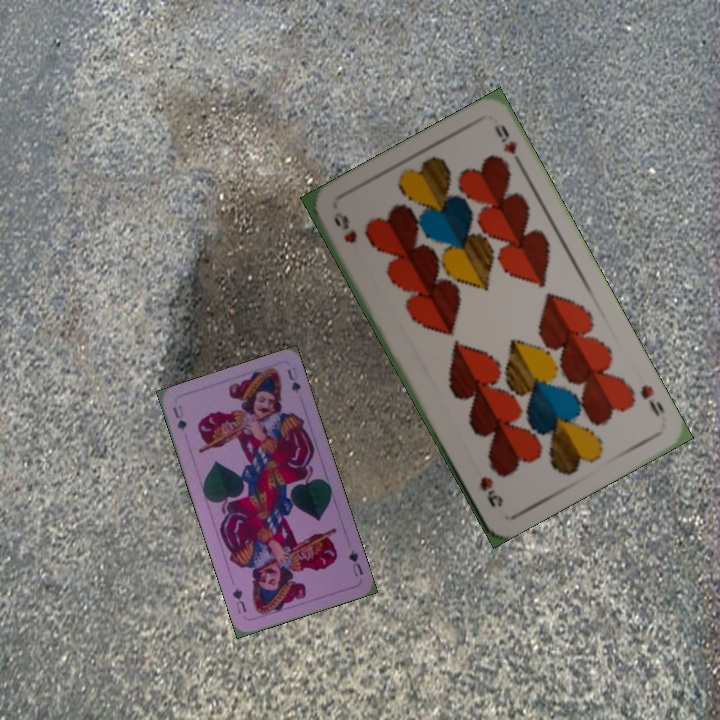GU: (344, 546, 365, 579), (169, 401, 189, 433)
H9: (329, 207, 360, 246), (636, 380, 667, 419)
